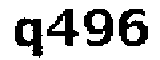4: (46, 9, 80, 50)
6: (117, 6, 153, 60)
9: (83, 7, 114, 53)
q: (13, 18, 44, 60)
